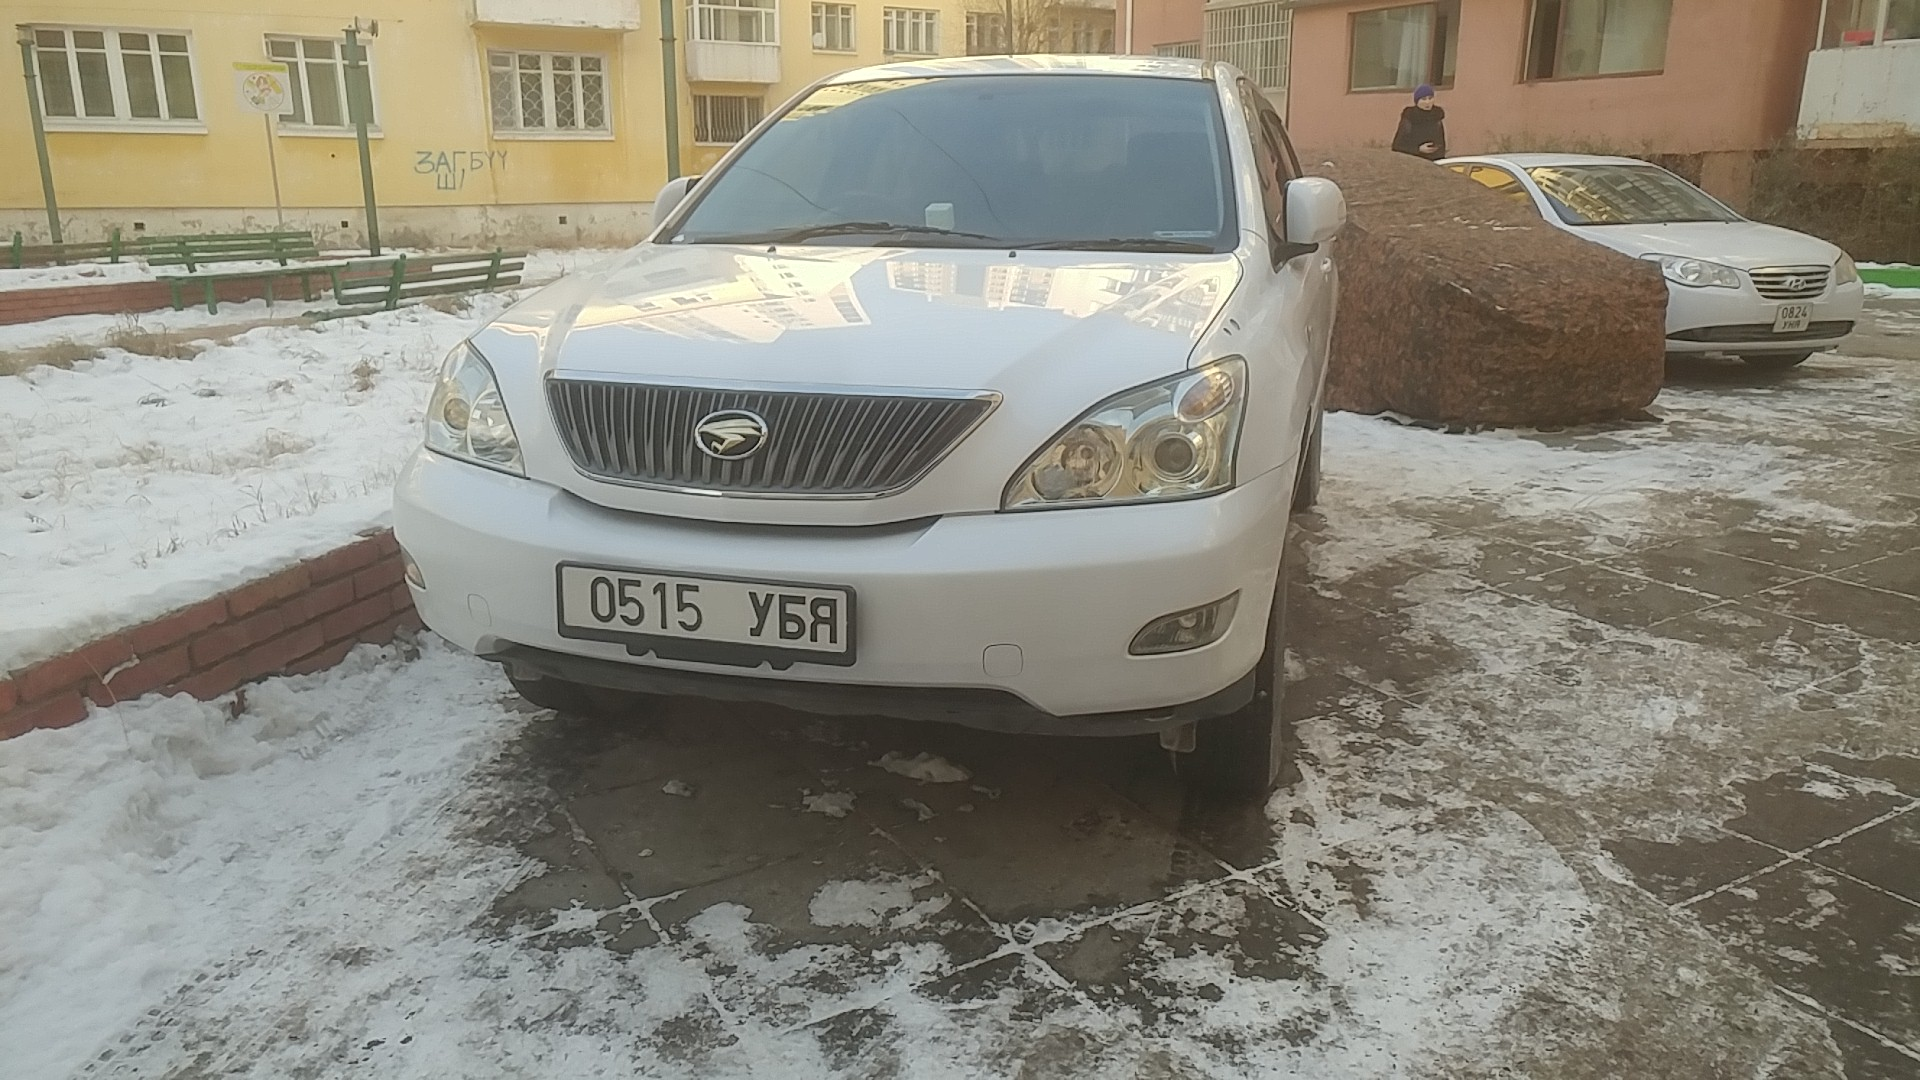0: (588, 574, 617, 622)
1: (652, 581, 670, 629)
5: (674, 581, 706, 632), (617, 576, 648, 627)
b: (777, 592, 808, 641)
plate: (554, 555, 862, 673)
u: (746, 589, 775, 638)
ya: (808, 594, 839, 645)
